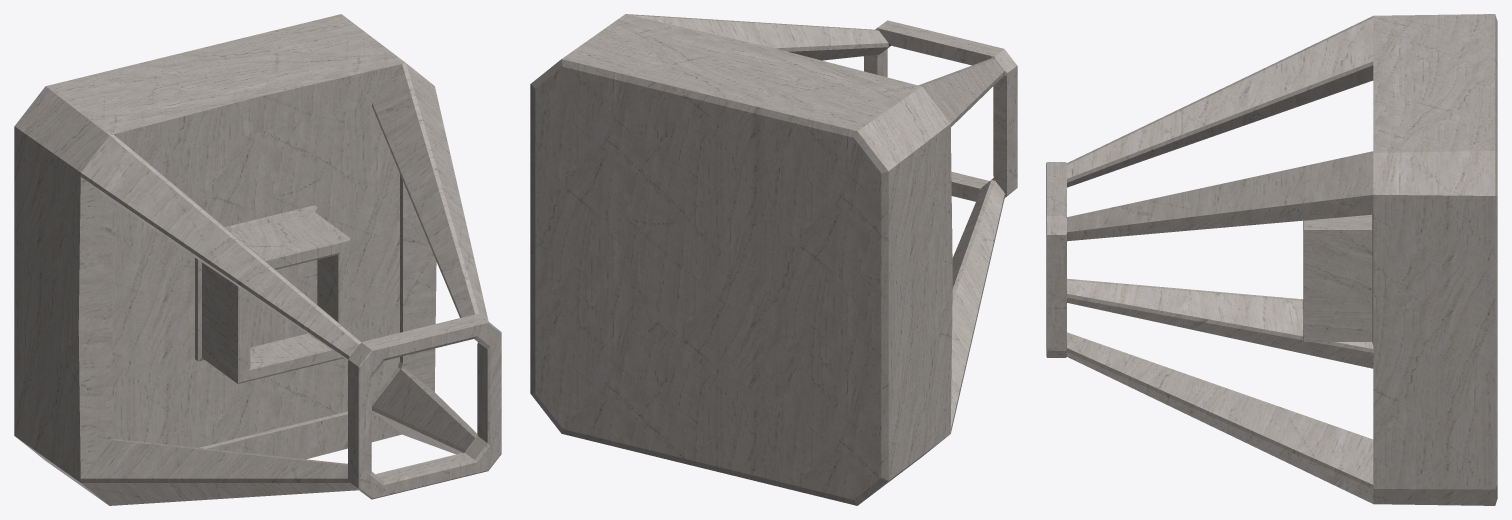
Rendered from StonelithMesh.fbx.
3 renders of one model, left to right at view 1: azimuth 30°, elevation 25°; view 2: azimuth 150°, elevation 25°; view 3: azimuth 270°, elevation 25°, orthographic. The views are drawn at different scales.
Parts seen in each view (by area): view 1: StoneLith; view 2: StoneLith; view 3: StoneLith.
Part boxes in pixels (bbox=[...]): StoneLith: bbox=[14, 14, 501, 505]; StoneLith: bbox=[530, 14, 1017, 505]; StoneLith: bbox=[1046, 14, 1497, 505].
Size of the model in its own units: 5.98 by 5.98 by 6.88.
Materials: 1 (1 with a texture image).
